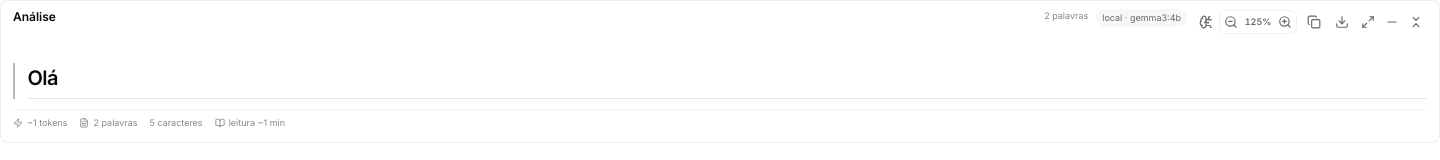
it: AIOutputCard — níveis de expansão › botão de ciclo colapsa e reabre
Click the button named "Recolher (só título)".
click(1392, 22)  # box [1381,11,1403,33]
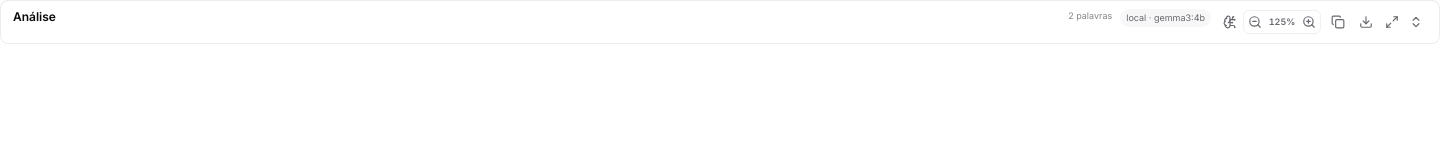
Click the button named "Expandir".
click(1416, 22)  # box [1405,11,1427,33]
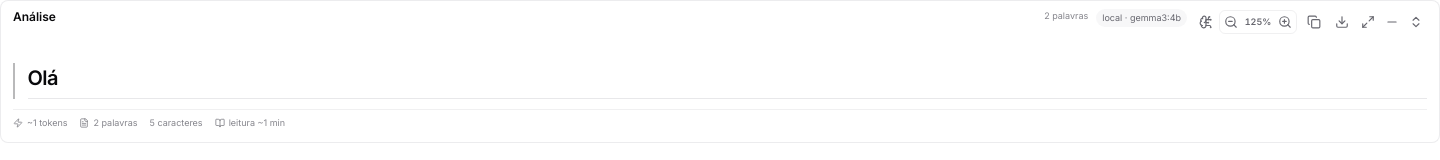
Expected: the element named "Conteúdo de Análise" is shown, [13,43,1427,130]
